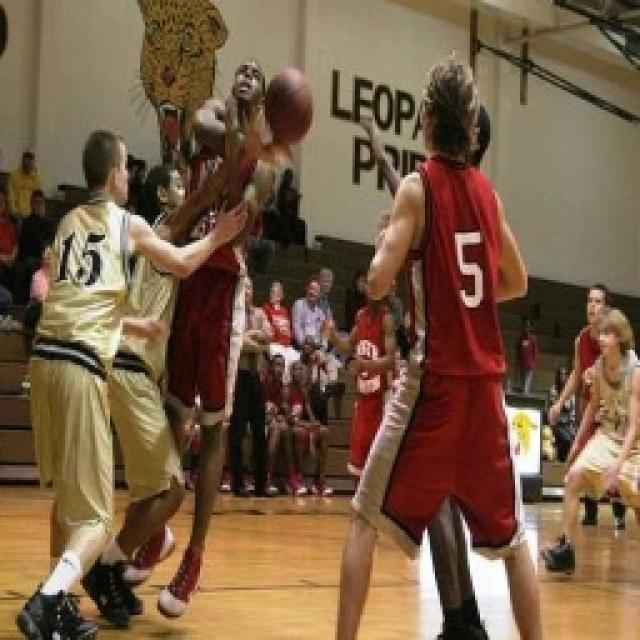rim: (256, 58, 320, 150)
